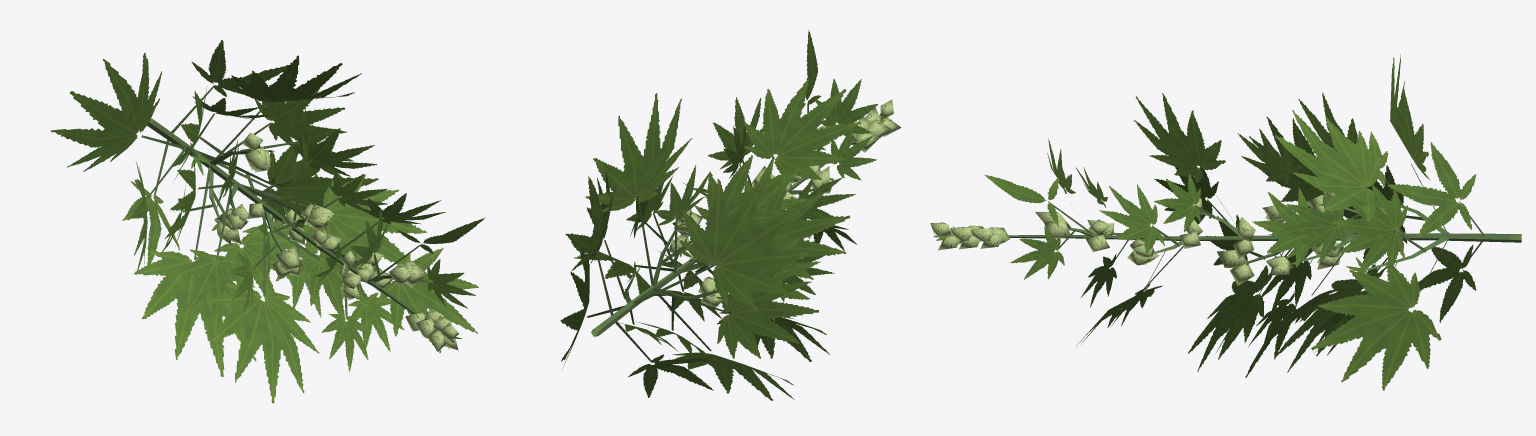
The model's file is p_male_haze_flowering_c0_cards.obj.
3 renders of one model, left to right at view 1: azimuth 30°, elevation 25°; view 2: azimuth 150°, elevation 25°; view 3: azimuth 270°, elevation 25°, orthographic. The views are drawn at different scales.
Bounding box in the file's own units: 1.35 × 1.21 × 1.91.
1 material, 1 textured.
